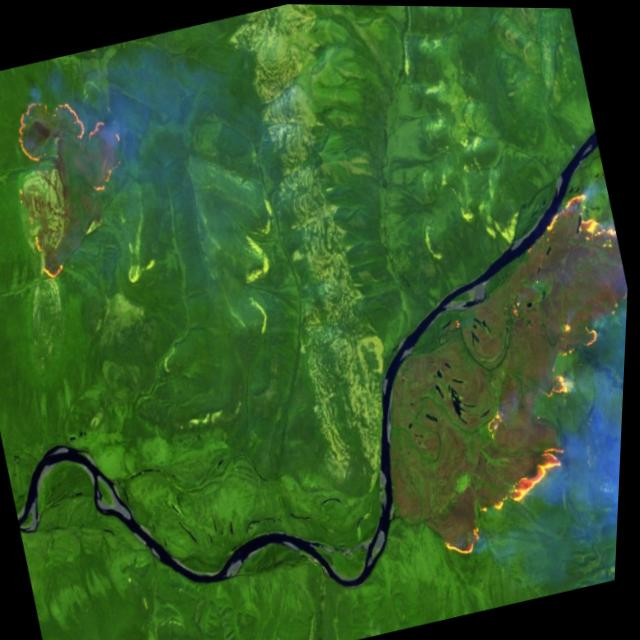fire: (370, 178, 634, 564), (0, 77, 155, 288)
